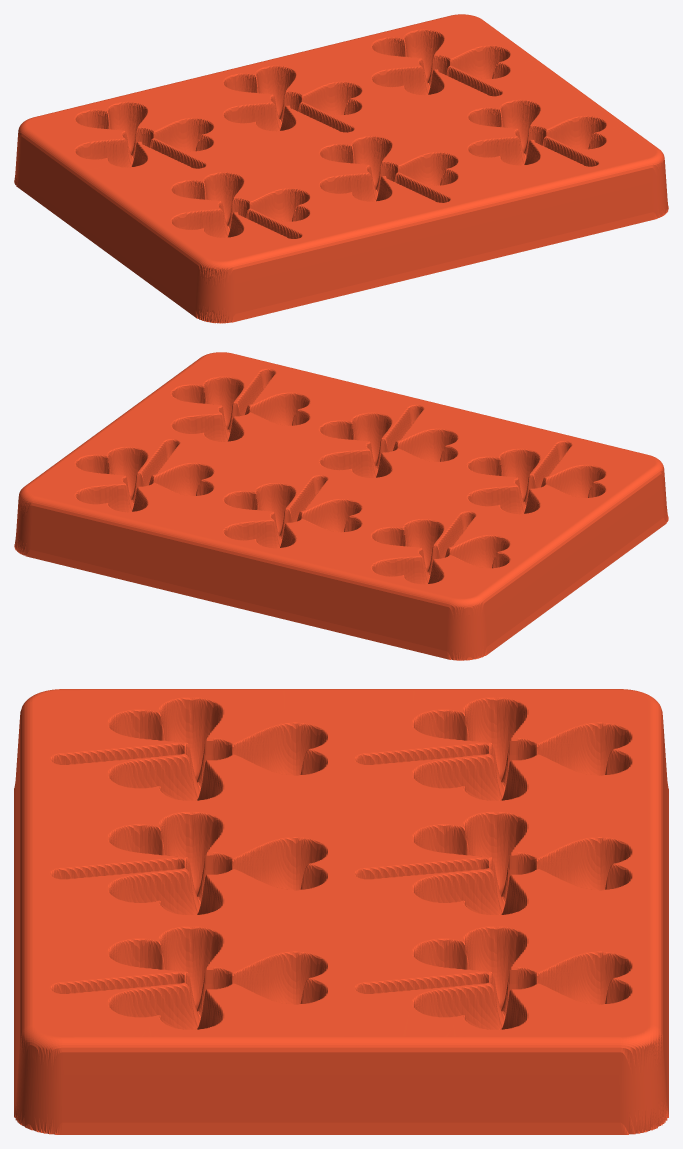
File: mold.glb
3 views of the same model, one above another, from view 1: azimuth 30°, elevation 25°; view 2: azimuth 150°, elevation 25°; view 3: azimuth 270°, elevation 25° (orthographic). The views are drawn at different scales.
Parts seen in each view (by area): view 1: geometry_0; view 2: geometry_0; view 3: geometry_0.
Boxes of the visible parts, x1,y1,x2,y2 form: geometry_0: [14, 14, 668, 323]; geometry_0: [14, 352, 668, 660]; geometry_0: [14, 689, 668, 1134].
Bounding box in the file's own units: 0.1603 × 0.0185 × 0.1222.
